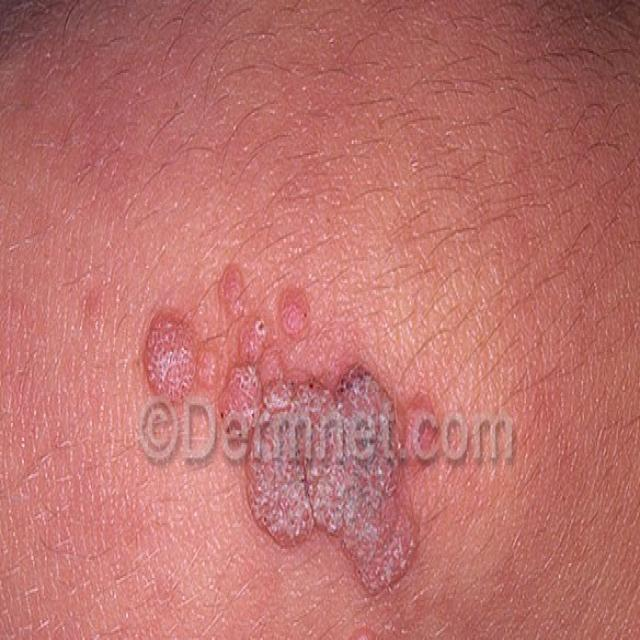Warts: (116, 222, 452, 640)
